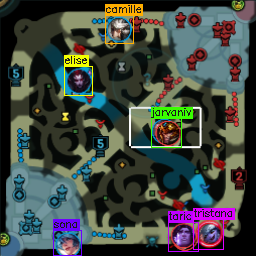camille: (106, 16, 131, 40)
elise: (66, 68, 89, 92)
jarvaniv: (155, 121, 180, 144)
sona: (55, 232, 80, 256)
taric: (171, 222, 195, 248)
tristana: (196, 220, 220, 245)
